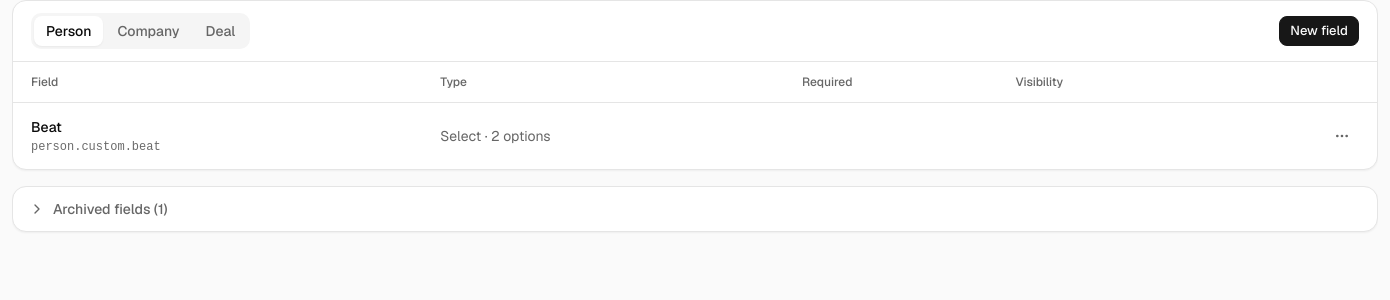
Test: Custom fields settings (doc 48 §5; FR-CRMS-UI-6) › lists a person field with its type, and the archived ones apart
The image size is (1390, 300).
Expected: the text "Beat" is shown, 31,118 -> 62,136
Expected: the text "Select · 2 options" is shown, 422,102 -> 784,169
Click the button "Archived fields (1)".
click(105, 209)  # box 13,187 -> 1377,231
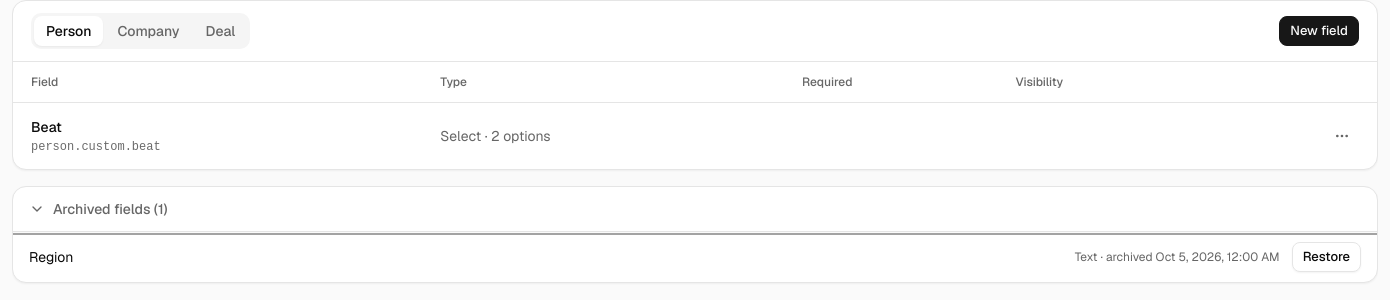
Expected: the text "Region" is shown, 29,248 -> 73,266
